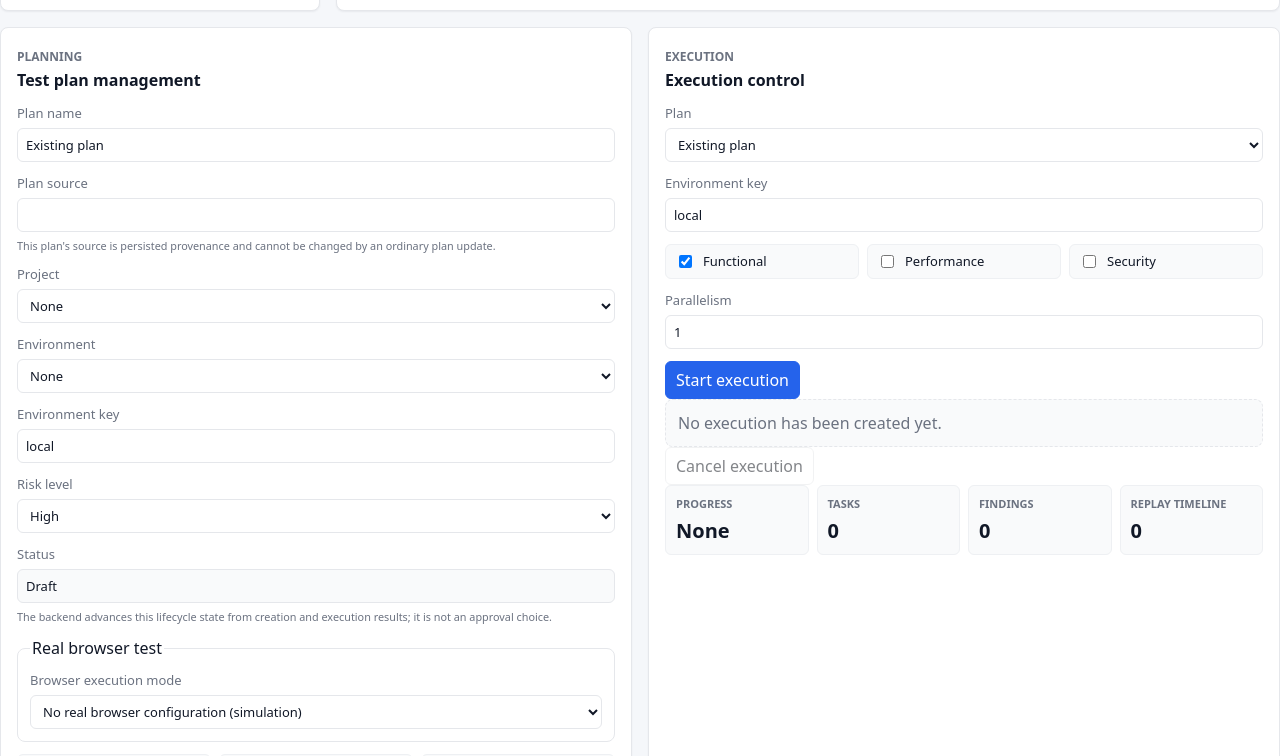
Test: browser plan editing › shows browser scope validation beside the create button
(page scrolled)
Select "None" in the dropdown labelled "Project": (316, 306) [17,290,615,324]
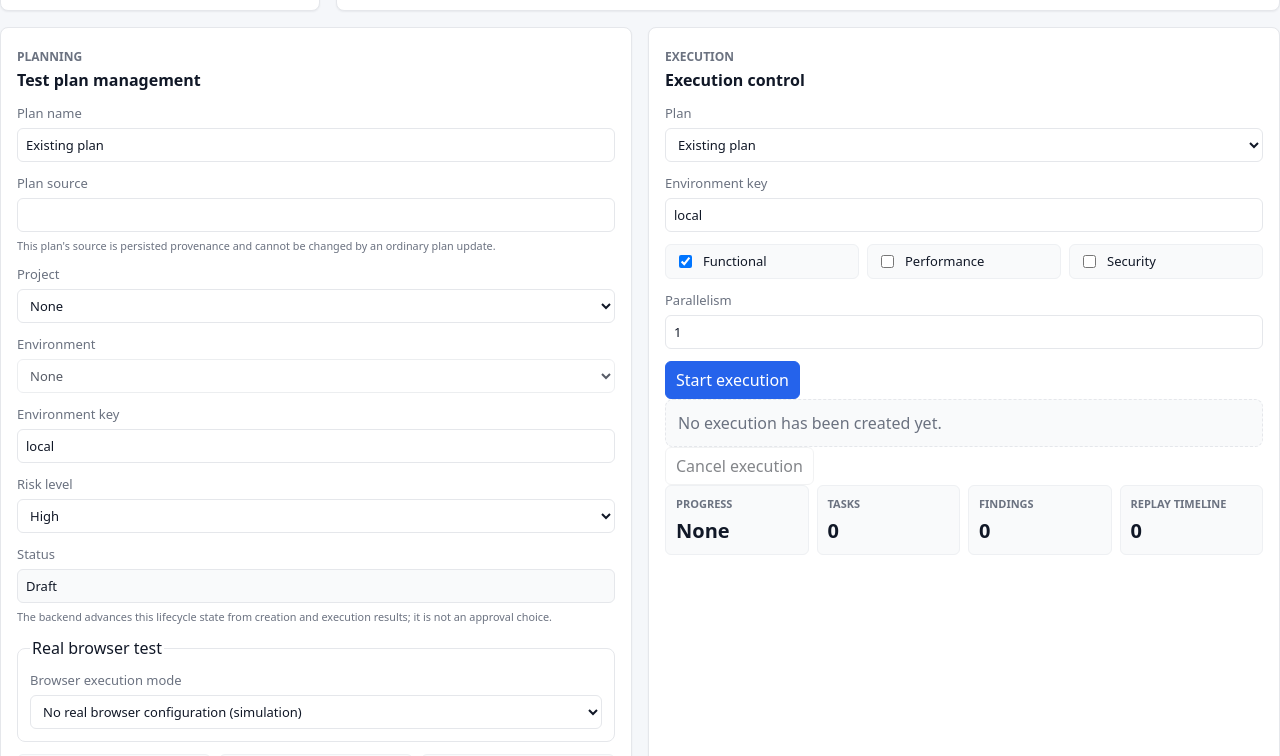
Select "Scenario collection" in the dropdown labelled "Browser execution mode": (316, 712) [30,695,602,729]
(page scrolled)
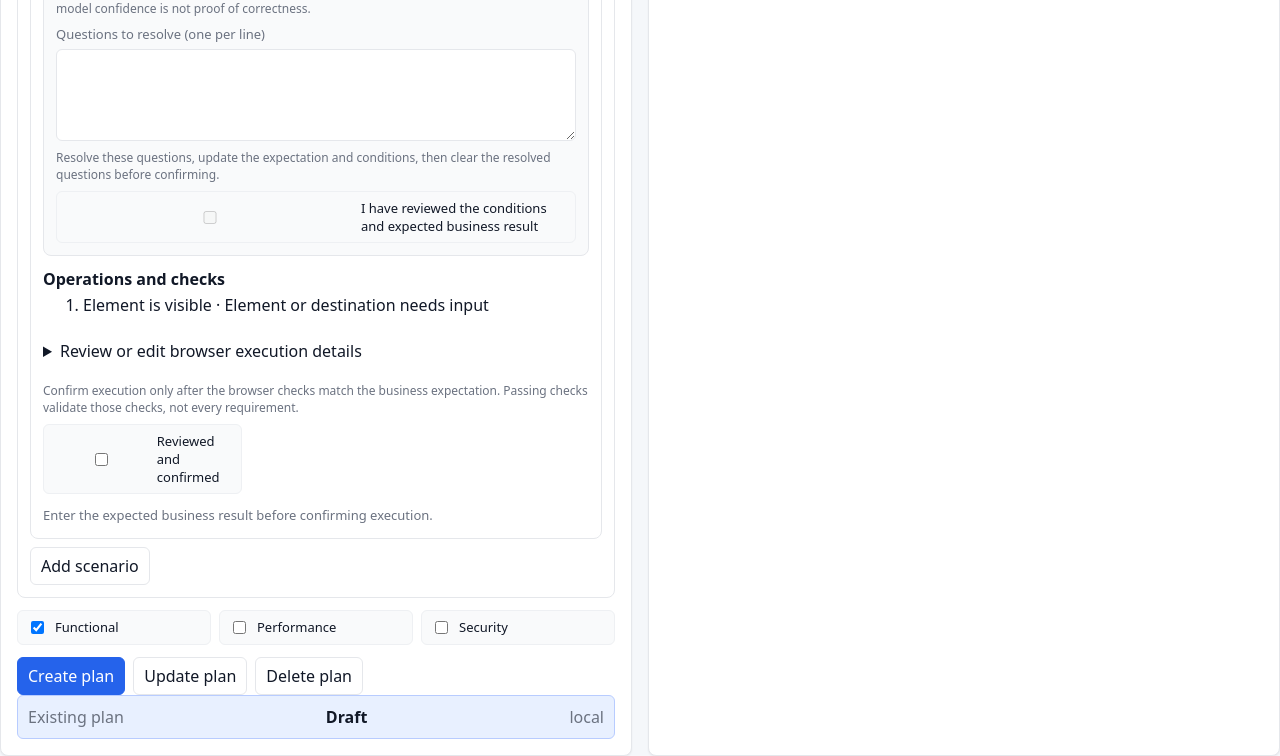
Click the button "Create plan": (71, 676) [17,657,125,695]
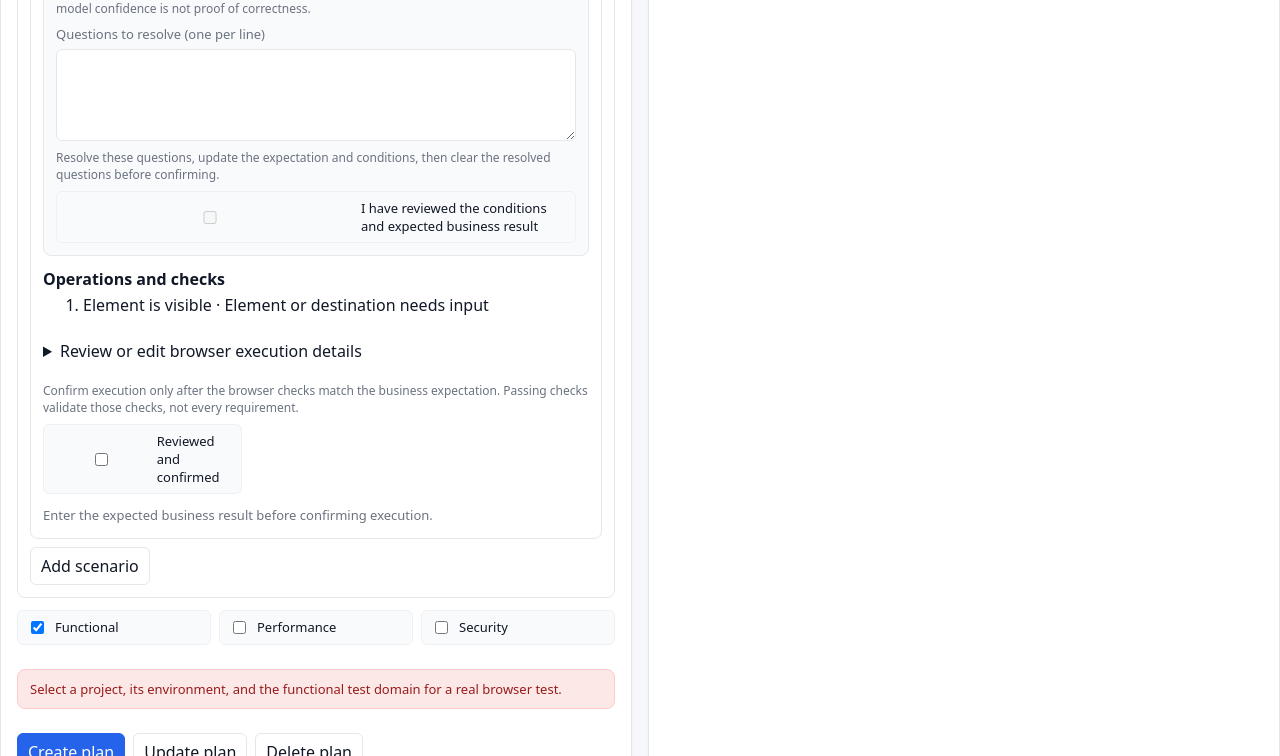
Now the 2nd message shows "Select a project, its environment, and the functional test domain for a real browser test.", box [30,680,562,698]
